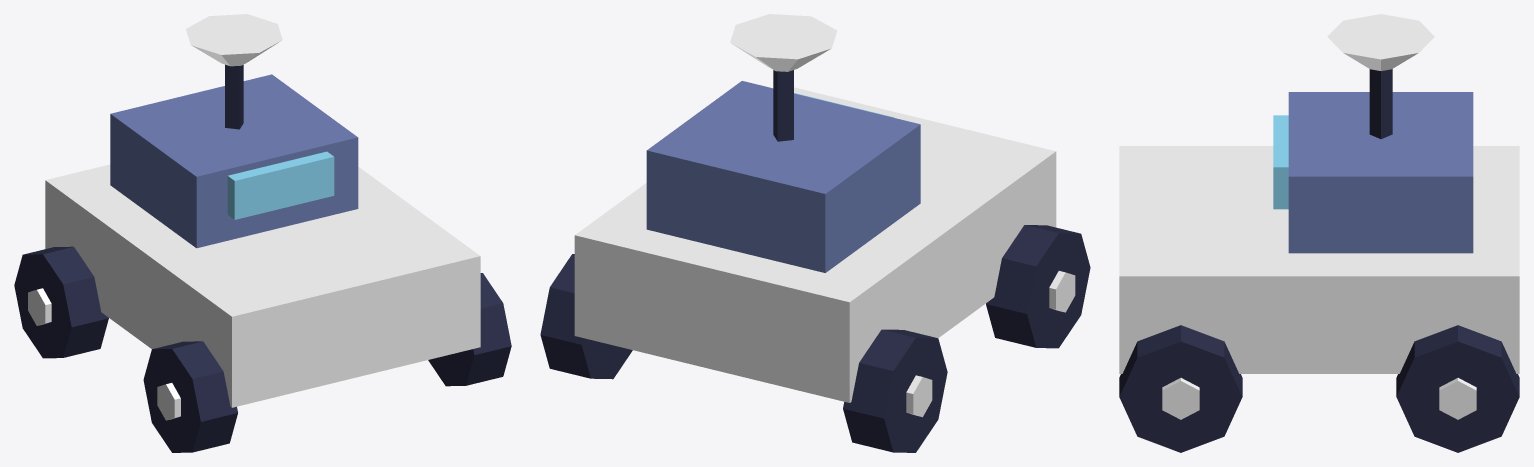
Rendered from rover.glb.
3 renders of one model, left to right at view 1: azimuth 30°, elevation 25°; view 2: azimuth 150°, elevation 25°; view 3: azimuth 270°, elevation 25°, orthographic. The views are drawn at different scales.
Visible parts, largest first — view 1: space-rover; view 2: space-rover; view 3: space-rover.
Part boxes in pixels (bbox=[...]): space-rover: bbox=[14, 14, 511, 452]; space-rover: bbox=[540, 14, 1090, 452]; space-rover: bbox=[1119, 14, 1519, 452].
Bounding box in the file's own units: 0.52 × 0.48 × 0.52.
